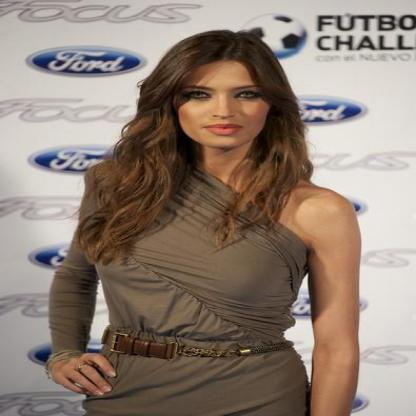long-hair: (119, 150, 314, 176)
